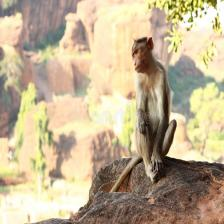monkey: (128, 32, 179, 182)
